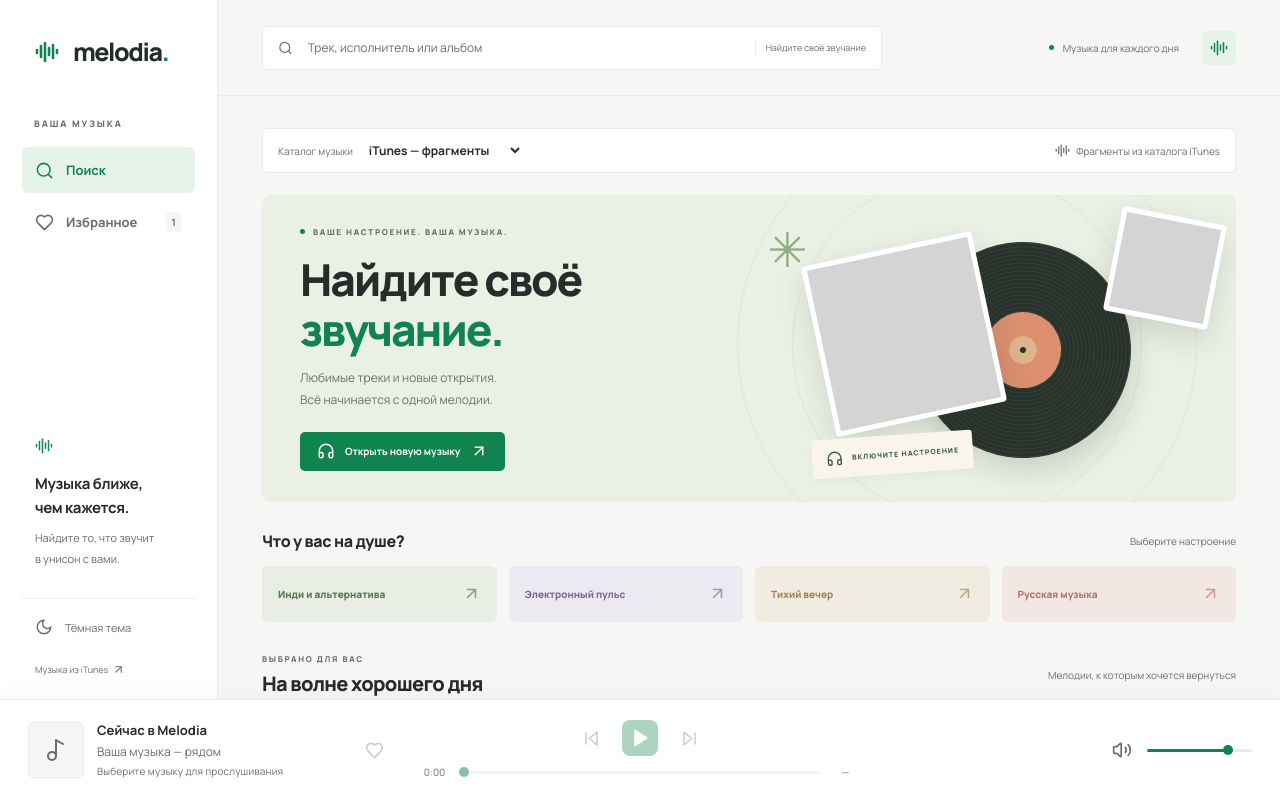
Test: сценарии приложения › продолжает воспроизводить сохранённое избранное из прежней версии iTunes
This screenshot has width=1280, height=800.
Click the button "Избранное 1" at (108, 222), box x1=22 y1=199 x2=195 y2=245
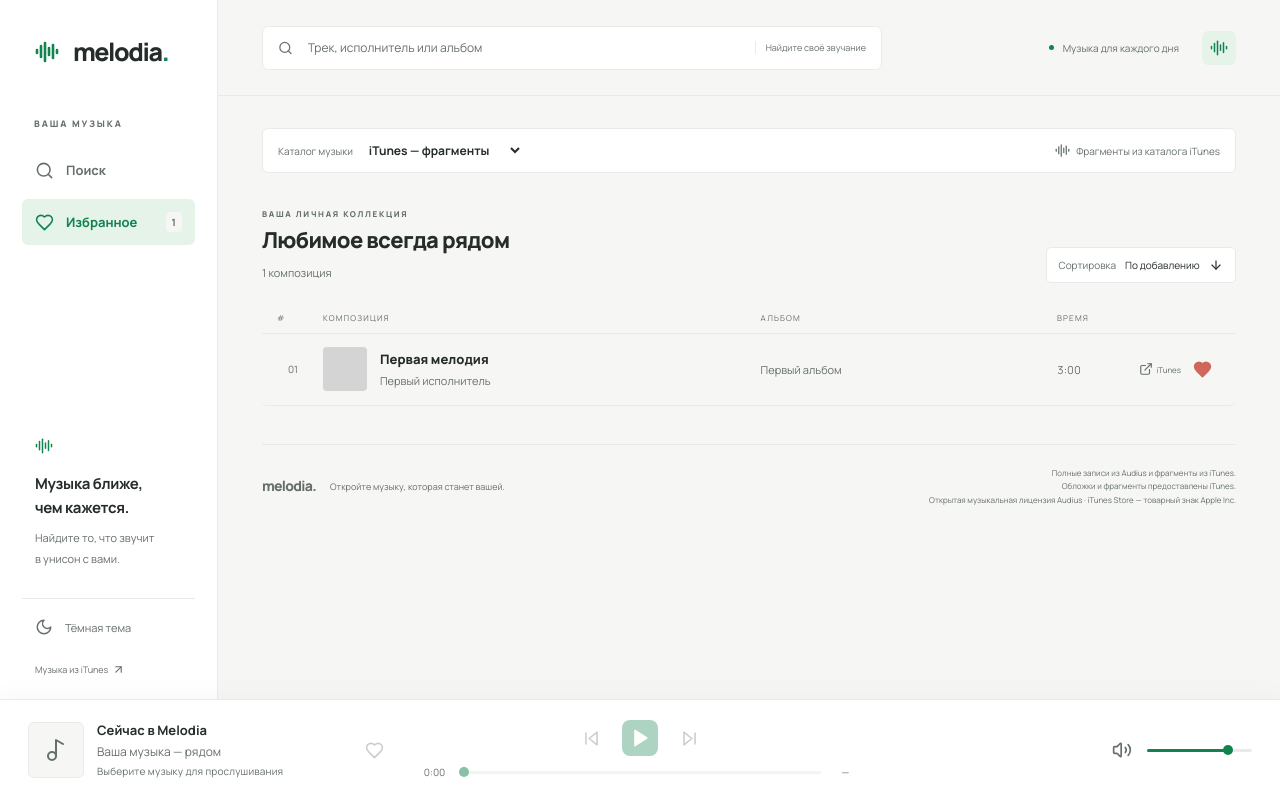
Click the button "Первая мелодия Первый исполнитель" at (434, 359), box x1=380 y1=347 x2=747 y2=391
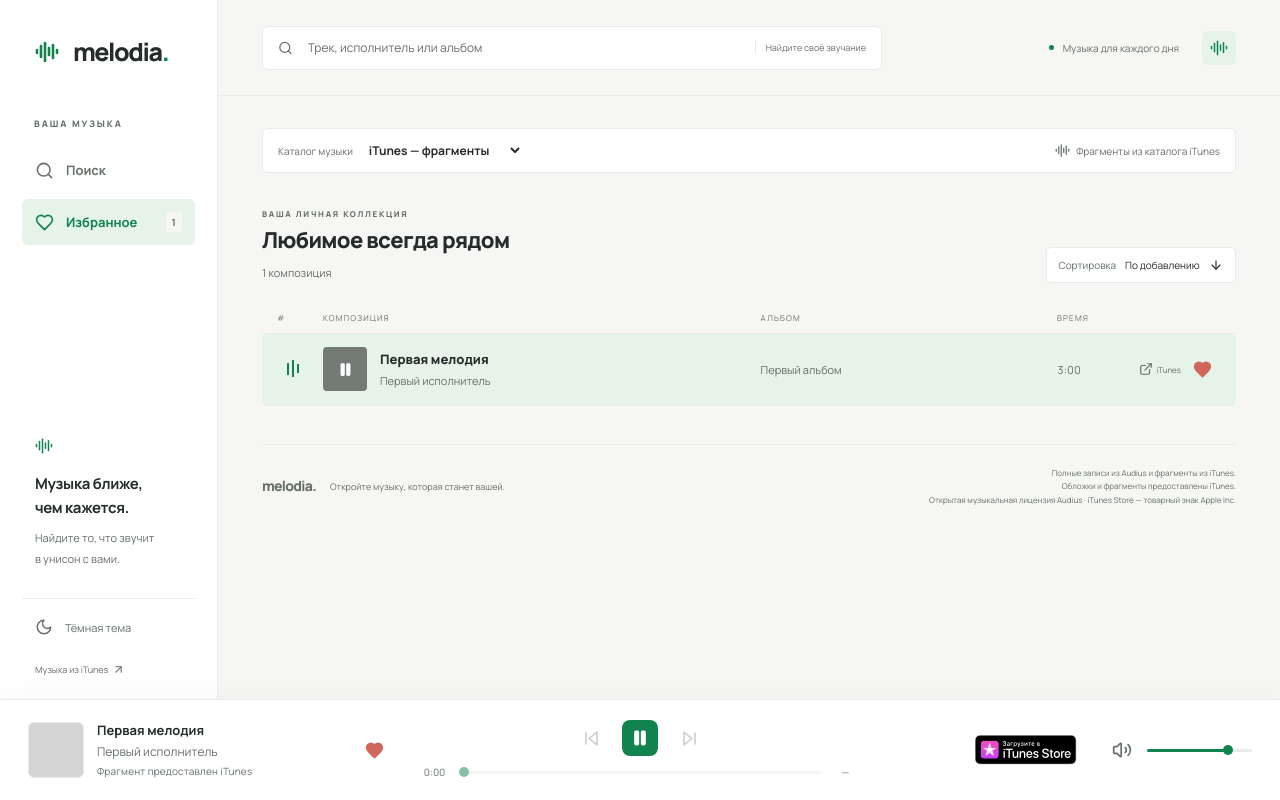
Now the footer named "Музыкальный плеер" shows "Фрагмент", box x1=97 y1=764 x2=252 y2=778
